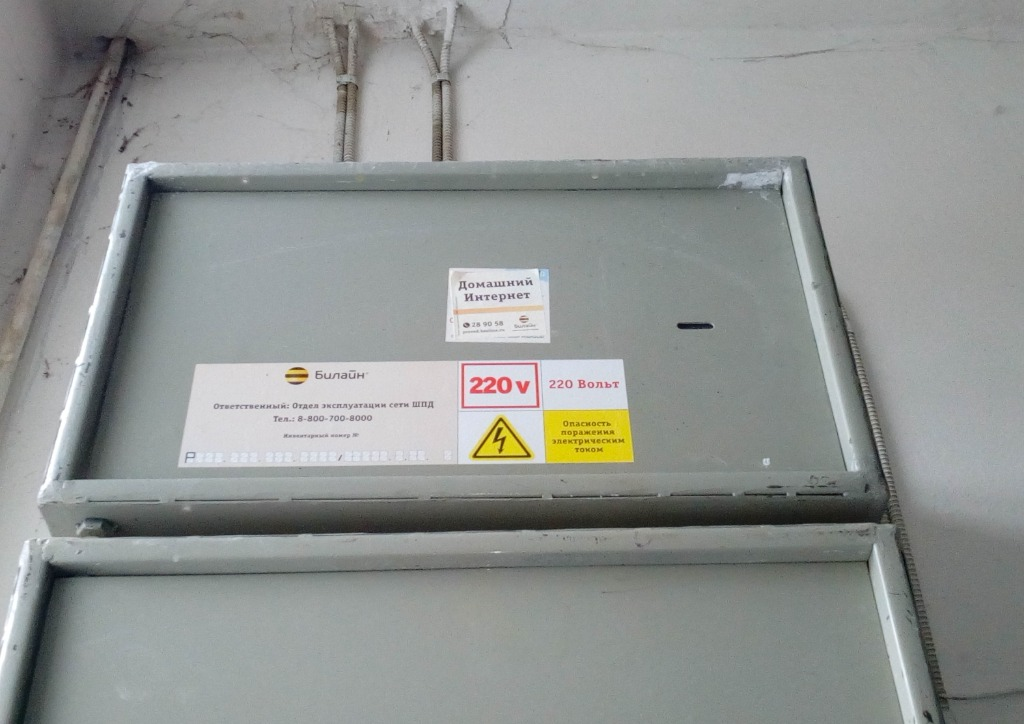e2-6u: (28, 145, 897, 536)
